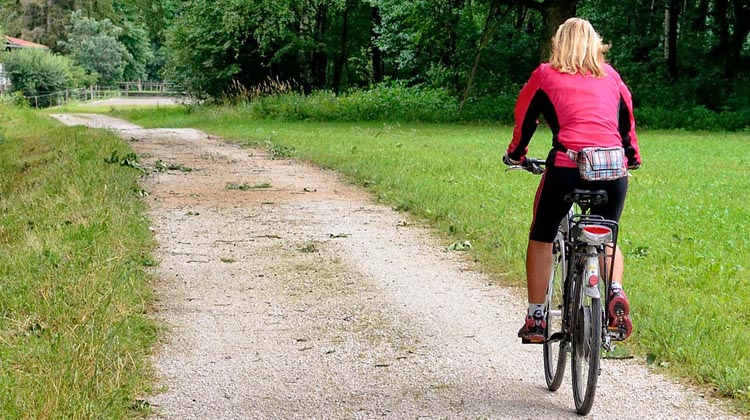cyclist_back: (498, 12, 638, 416)
